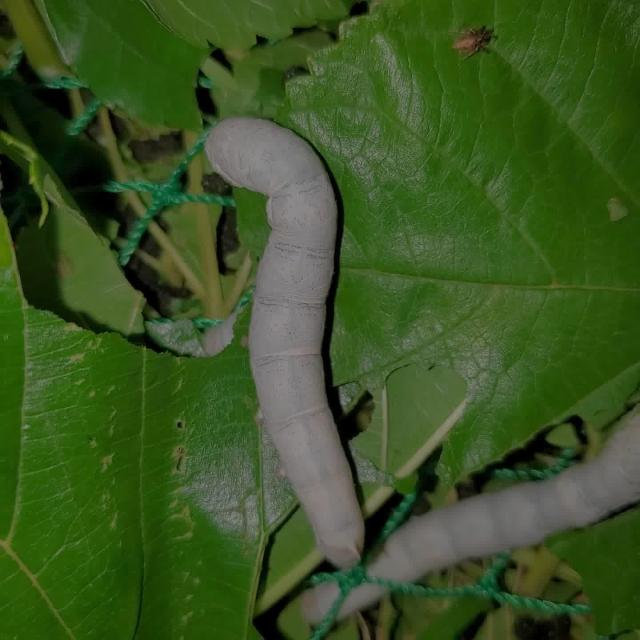Healthy: (189, 110, 385, 570)
